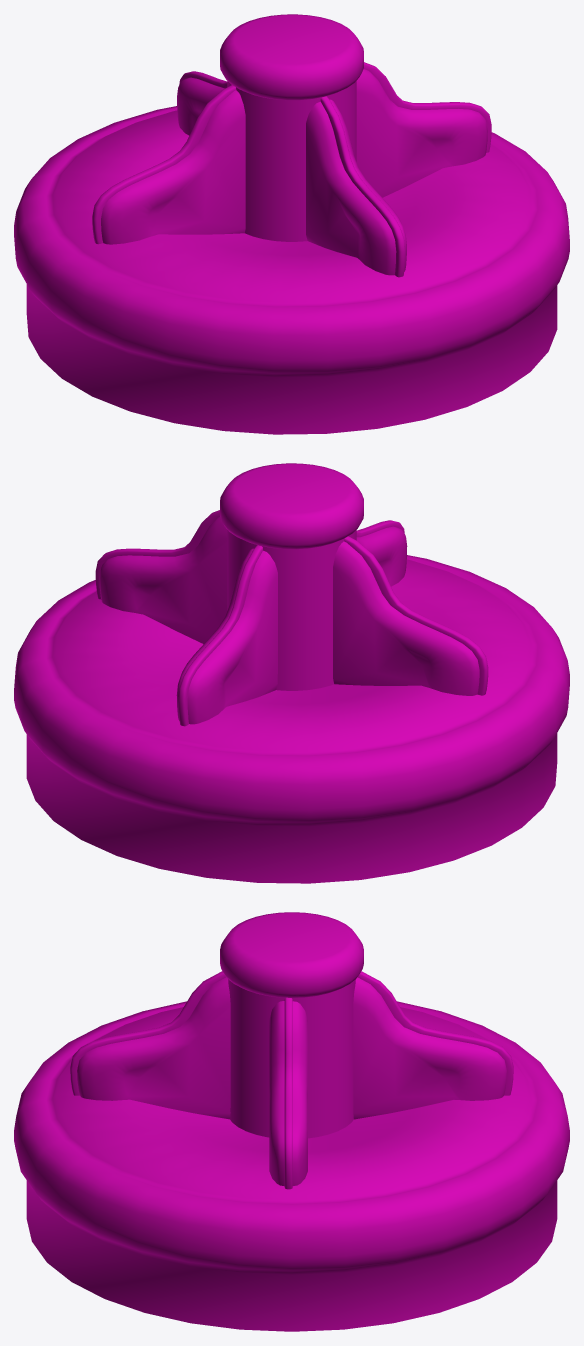
File: SM_Siege.fbx
The picture shows the model from 3 angles, top to bottom: view 1: azimuth 30°, elevation 25°; view 2: azimuth 150°, elevation 25°; view 3: azimuth 270°, elevation 25°; orthographic projection.
Parts seen in each view (by area): view 1: SM_Siege; view 2: SM_Siege; view 3: SM_Siege.
Boxes of the visible parts, bbox=[...] form: SM_Siege: bbox=[14, 14, 569, 434]; SM_Siege: bbox=[14, 463, 569, 883]; SM_Siege: bbox=[14, 912, 569, 1331].
Size of the model in its own units: 397 by 222 by 397.
